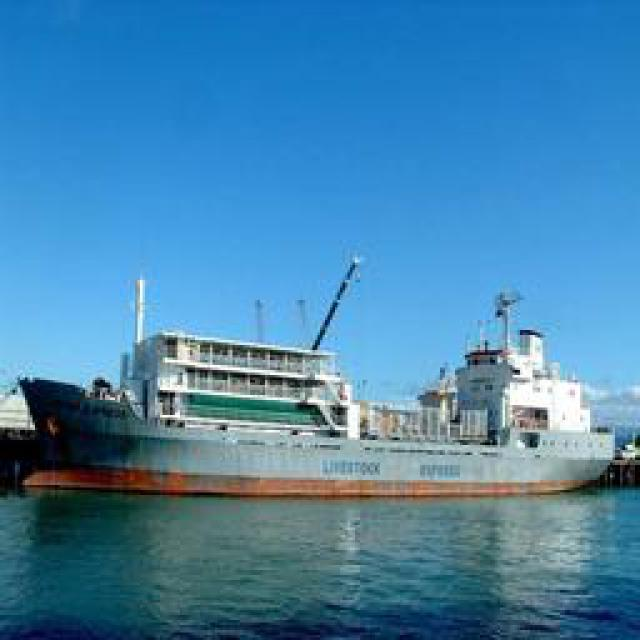Ship: (24, 259, 617, 502)
